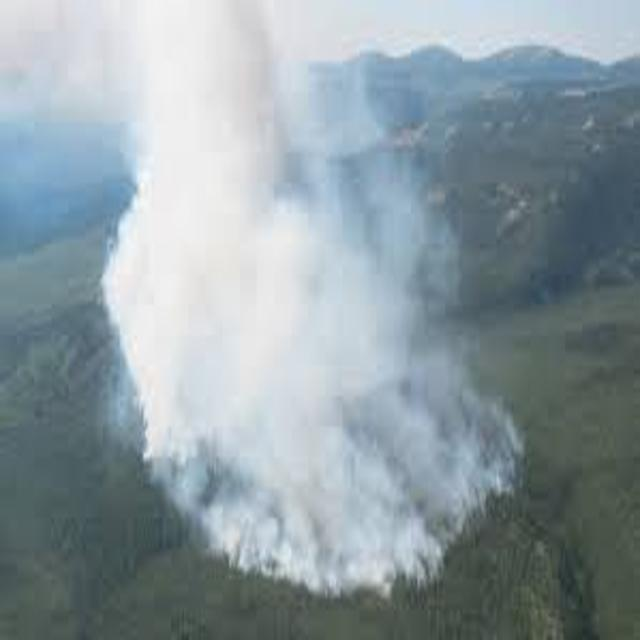Smoke: (296, 142, 512, 596), (100, 1, 294, 472), (145, 471, 297, 584)
